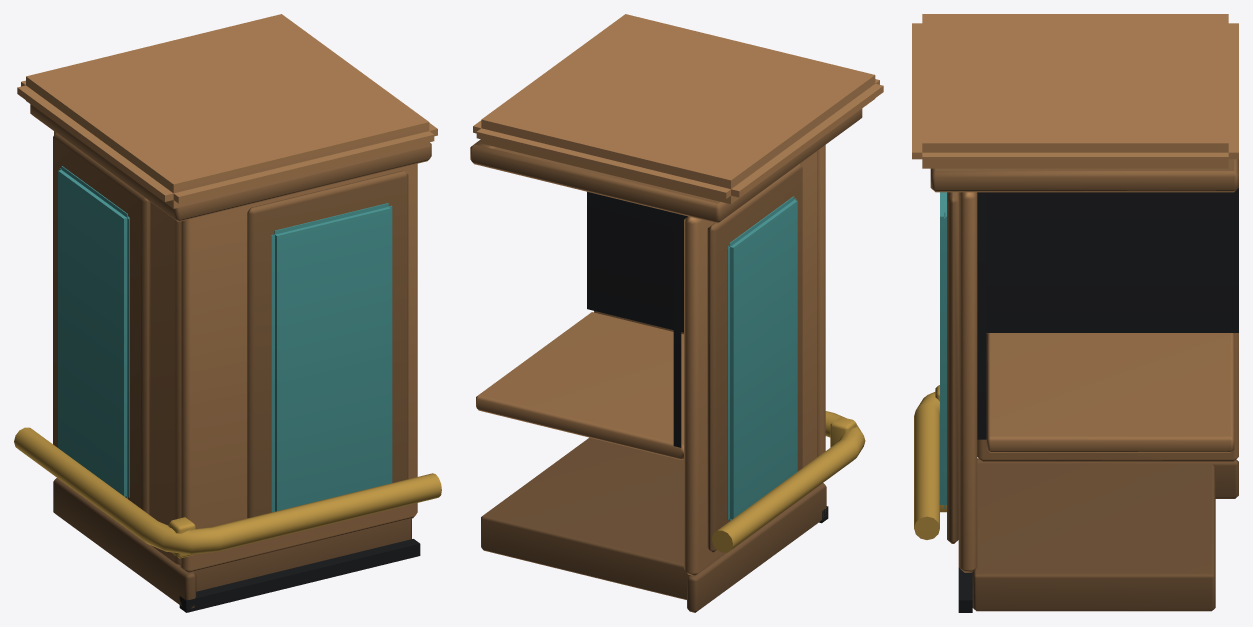
The model's file is SM_Bar_Corner_01.glb.
3 views of the same model, side by side, from view 1: azimuth 30°, elevation 25°; view 2: azimuth 150°, elevation 25°; view 3: azimuth 270°, elevation 25° (orthographic). The views are drawn at different scales.
Visible parts, largest first — view 1: SM_Bar_Corner_01; view 2: SM_Bar_Corner_01; view 3: SM_Bar_Corner_01.
Part boxes in pixels (x1,y1,x2,y2): SM_Bar_Corner_01: (14, 14, 441, 612); SM_Bar_Corner_01: (470, 14, 883, 612); SM_Bar_Corner_01: (912, 14, 1238, 612).
Bounding box in the file's own units: 0.7 × 1.1 × 0.7.
Materials: 1 (1 with a texture image).
